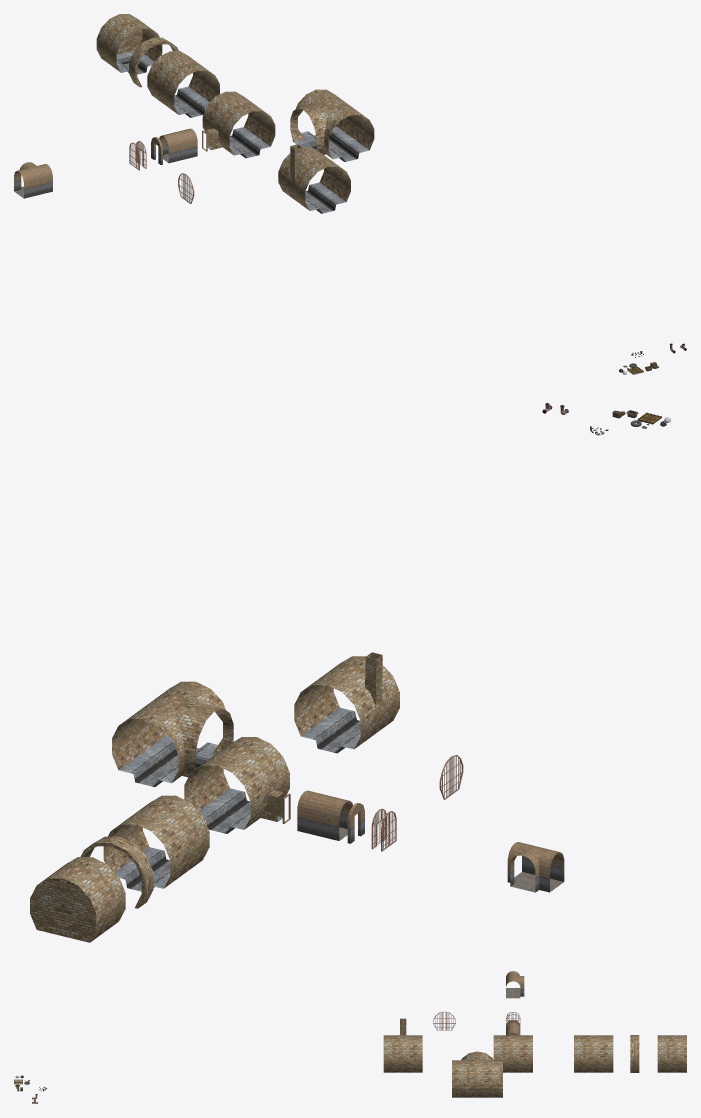
File: sewer.glb
3 renders of one model, top to bottom at view 1: azimuth 30°, elevation 25°; view 2: azimuth 150°, elevation 25°; view 3: azimuth 270°, elevation 25°, orthographic. The views are drawn at different scales.
Visible parts, largest first — view 1: Serwers_001, Serwers_007, Serwers_005, Serwers_009, Serwers_011, SerwersP_003, SerwersP, Serwers_010; view 2: Serwers_001, Serwers_005, Serwers_007, Serwers_009, Serwers_011, SerwersP_003, SerwersP, Serwers_010; view 3: Serwers_001, Serwers_005, Serwers_009, Serwers_007, Serwers_011, SerwersP_003, Serwers_010, SerwersP1_010.
Boxes of the visible parts, x1,y1,x2,y2 form: Serwers_001: (290, 89, 374, 161); Serwers_007: (202, 91, 275, 158); Serwers_005: (278, 144, 350, 213); Serwers_009: (147, 51, 219, 117); Serwers_011: (96, 14, 162, 74); SerwersP_003: (14, 162, 52, 198); SerwersP: (159, 128, 197, 163); Serwers_010: (129, 37, 178, 87); Serwers_001: (112, 681, 233, 787); Serwers_005: (294, 652, 399, 753); Serwers_007: (184, 737, 289, 833); Serwers_009: (103, 795, 209, 891); Serwers_011: (30, 857, 125, 942); SerwersP_003: (507, 842, 564, 892); SerwersP: (297, 790, 352, 840); Serwers_010: (80, 836, 153, 908); Serwers_001: (452, 1051, 502, 1097); Serwers_005: (383, 1018, 422, 1072); Serwers_009: (574, 1035, 613, 1072); Serwers_007: (493, 1035, 532, 1072); Serwers_011: (657, 1035, 686, 1072); SerwersP_003: (506, 971, 524, 998); Serwers_010: (630, 1035, 639, 1072); SerwersP1_010: (433, 1011, 455, 1030).
Bounding box in the file's own units: 48.74 × 8.31 × 116.
Materials: 10 (10 with a texture image).
